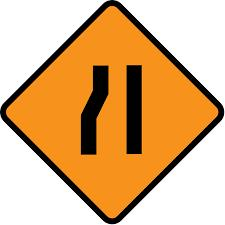narrow_road: (0, 0, 223, 224)
